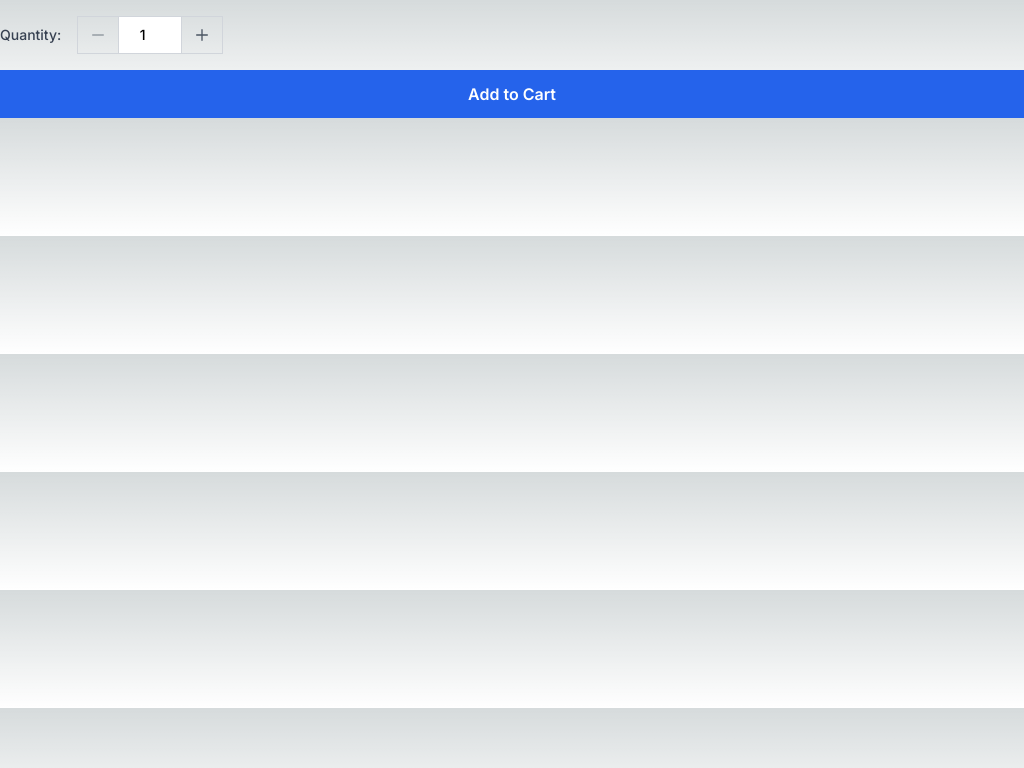
AddToCartButton Component › should display success message on successful add
This screenshot has width=1024, height=768.
What coordinates should you click on to do the following:
click the button "Add to Cart"
I would click on:
 (512, 94)
Its box is [0, 70, 1023, 118].
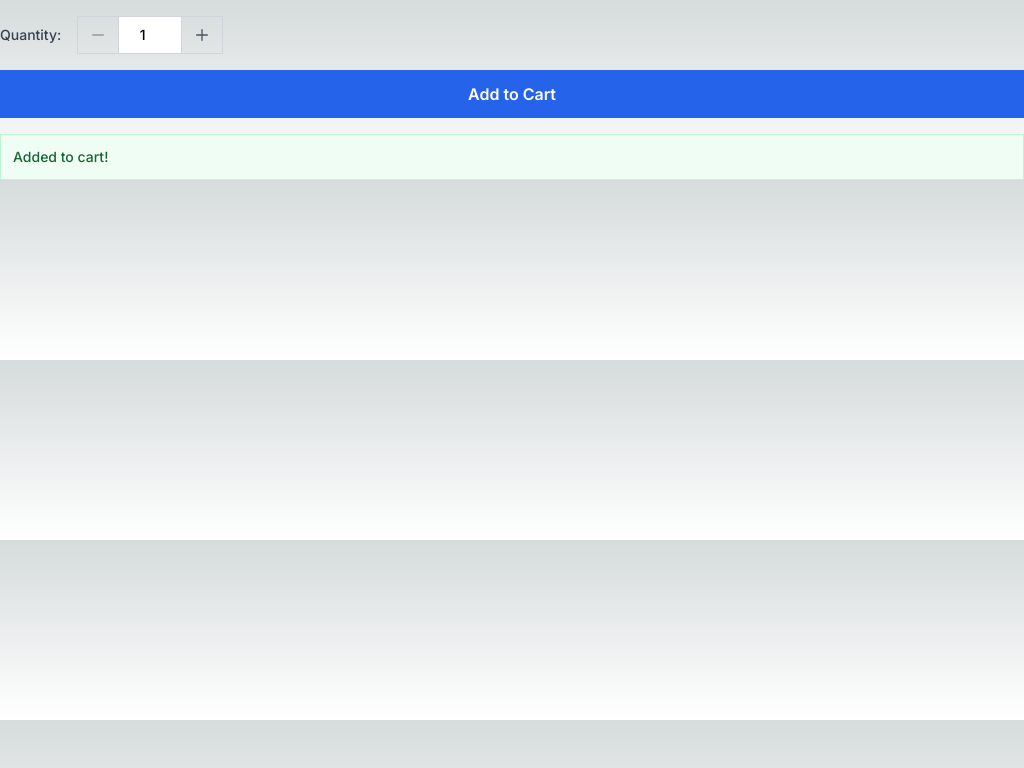
Now the text "Added to cart!" is shown, box [0, 134, 1023, 180]
